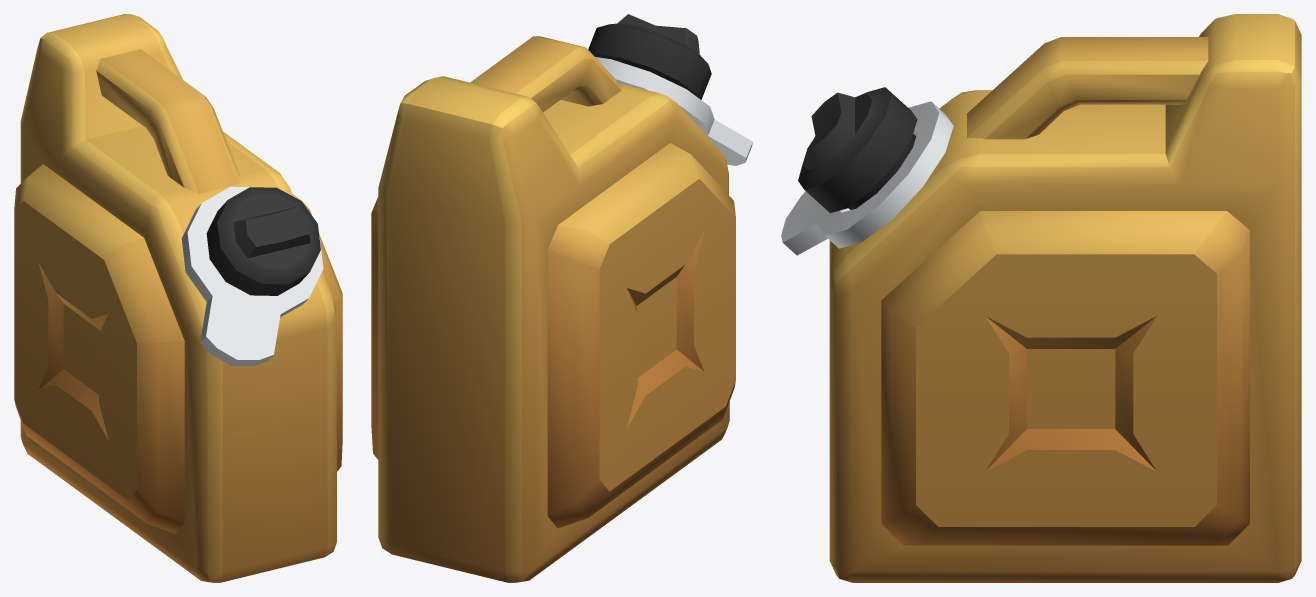
Rendered from fuel_b_jerrycan.glb.
3 views of the same model, side by side, from view 1: azimuth 30°, elevation 25°; view 2: azimuth 150°, elevation 25°; view 3: azimuth 270°, elevation 25° (orthographic). The views are drawn at different scales.
Visible parts, largest first — view 1: Fuel_B_Jerrycan; view 2: Fuel_B_Jerrycan; view 3: Fuel_B_Jerrycan.
Part boxes in pixels (<box>): Fuel_B_Jerrycan: <box>14,14,342,582</box>; Fuel_B_Jerrycan: <box>371,14,752,582</box>; Fuel_B_Jerrycan: <box>781,14,1301,582</box>.
Size of the model in its own units: 0.24 by 0.468 by 0.4299.
1 material, 1 textured.
